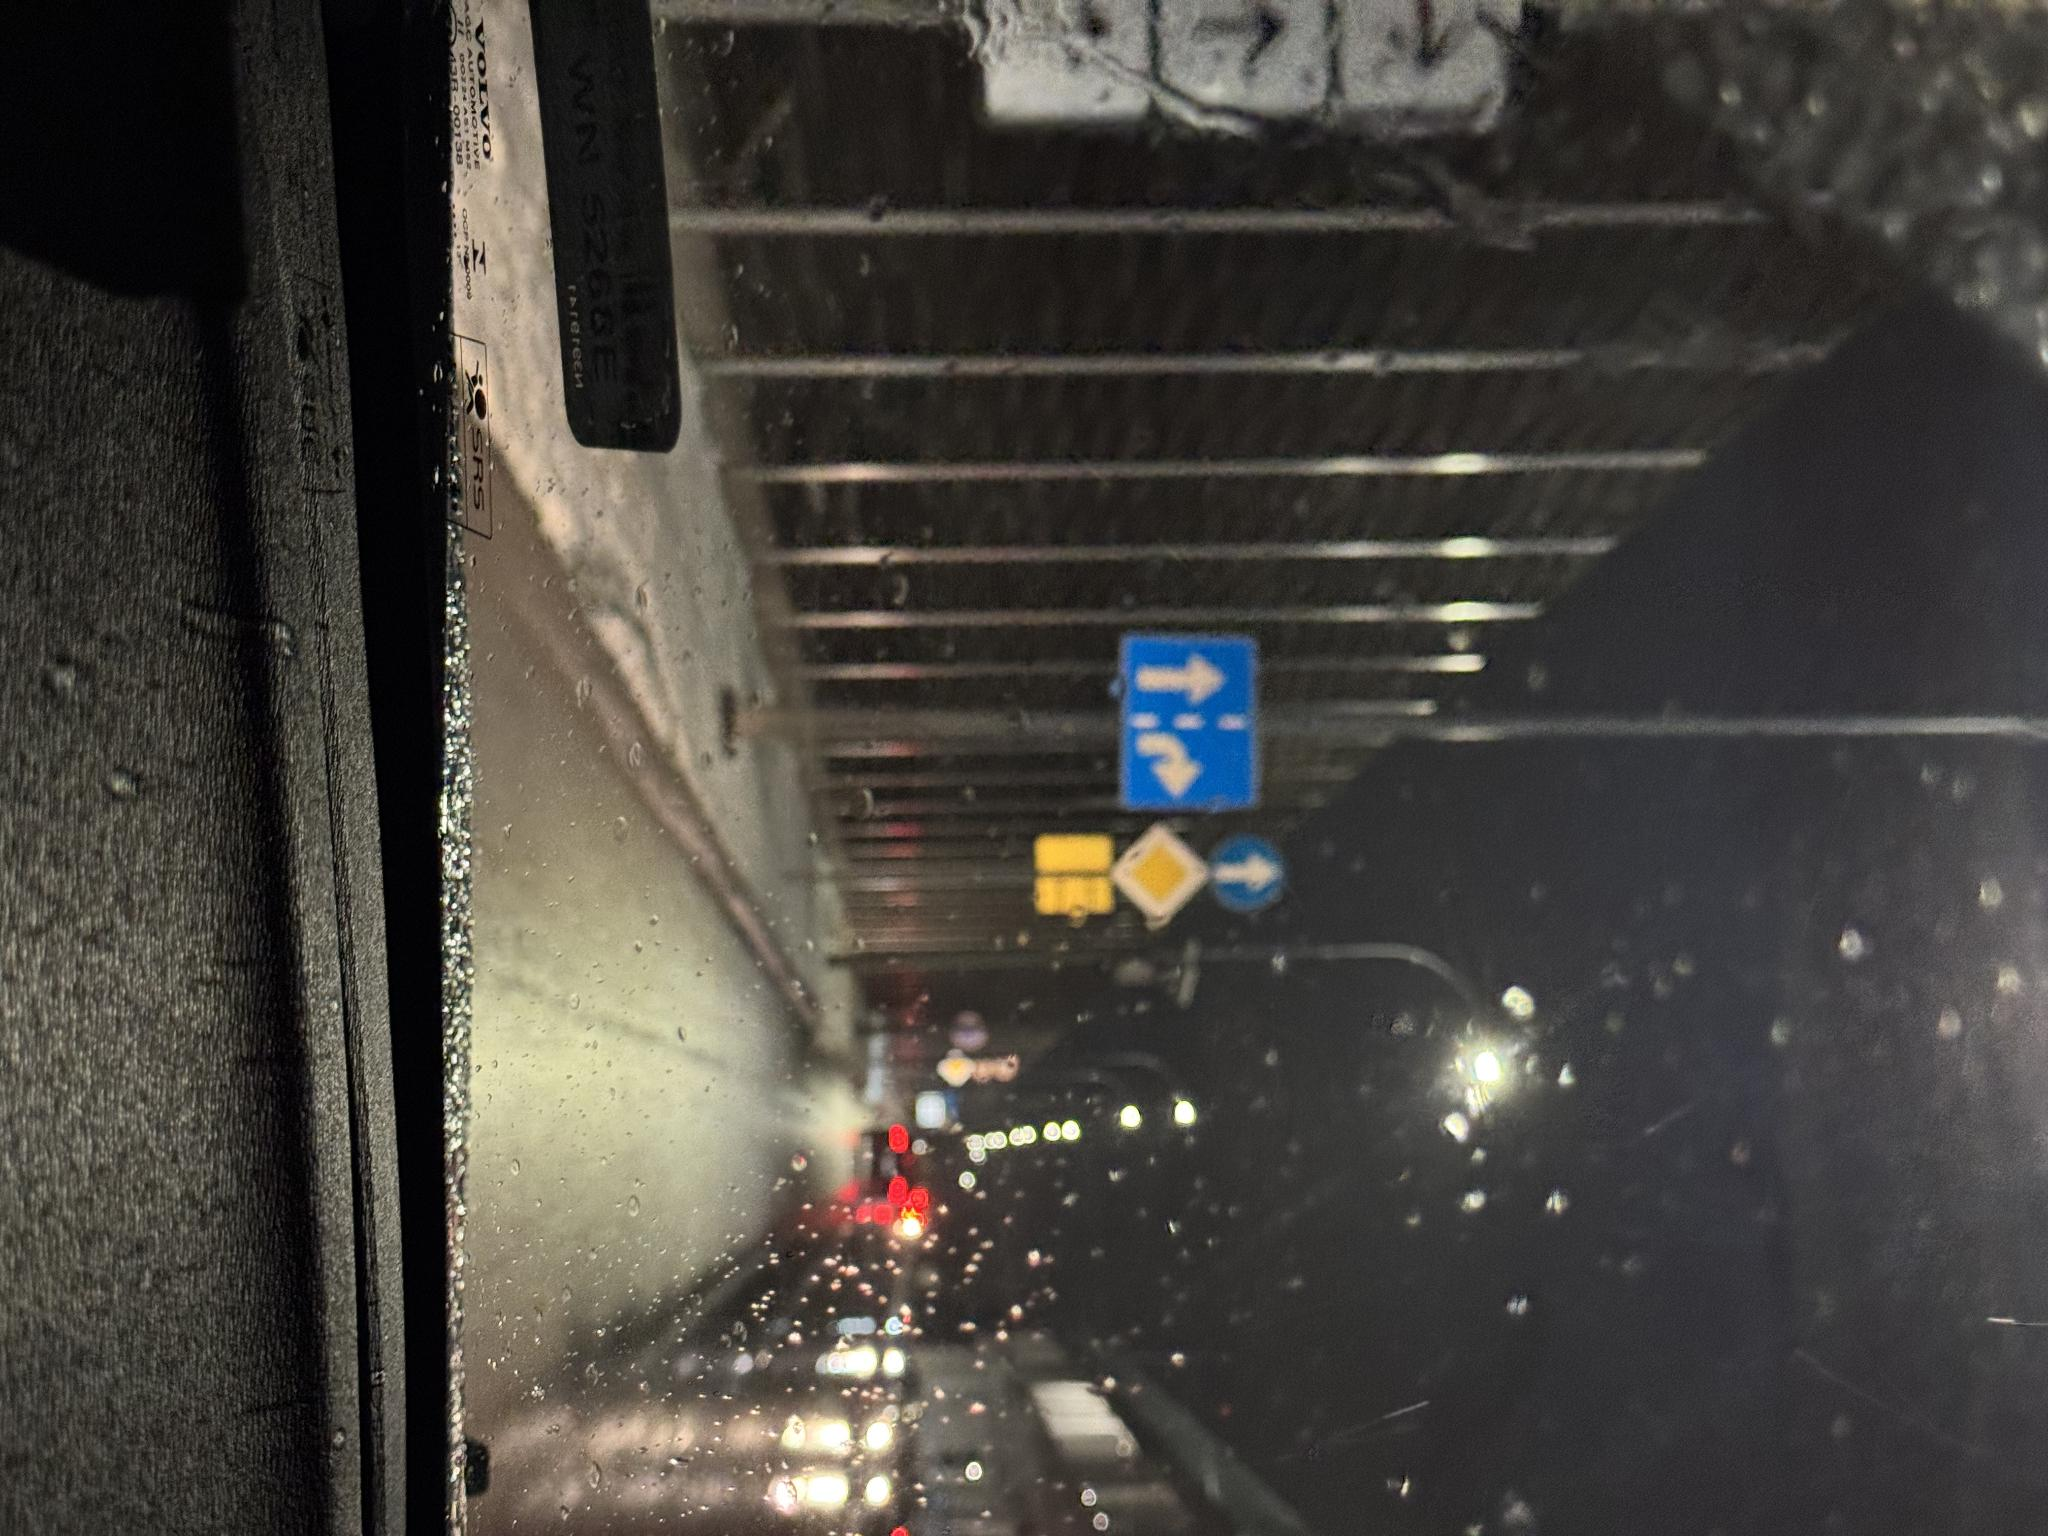information: (1335, 842, 1438, 936)
mandatory: (1345, 765, 1424, 841)
other: (1143, 792, 1322, 929), (1343, 936, 1429, 1015)
